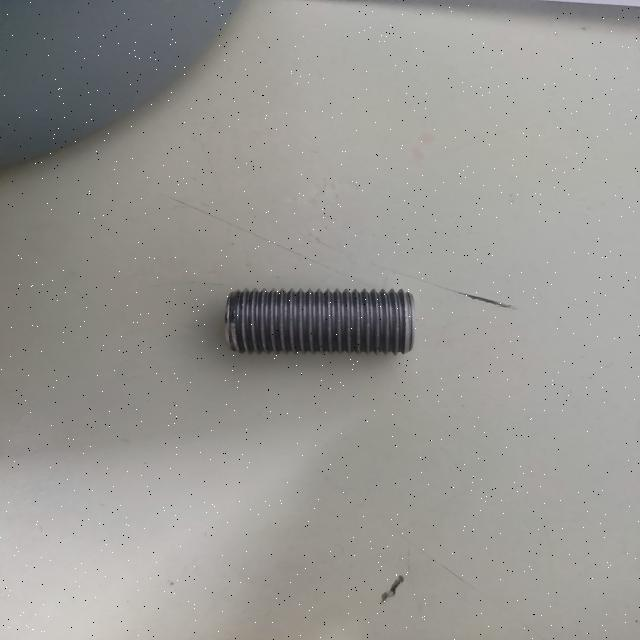Normal: (224, 286, 418, 358)
